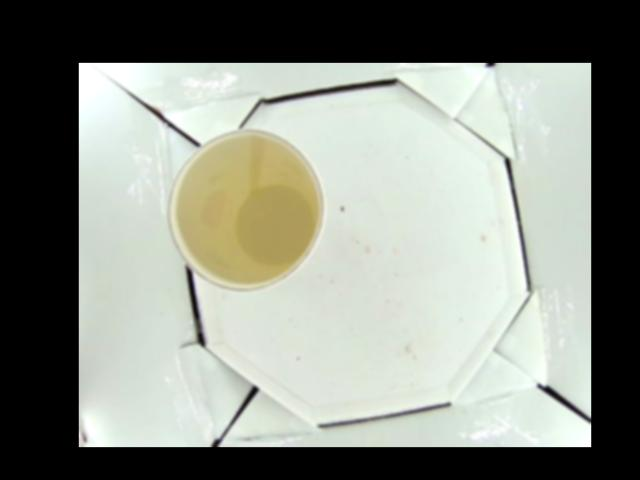Cup: (165, 128, 324, 291)
